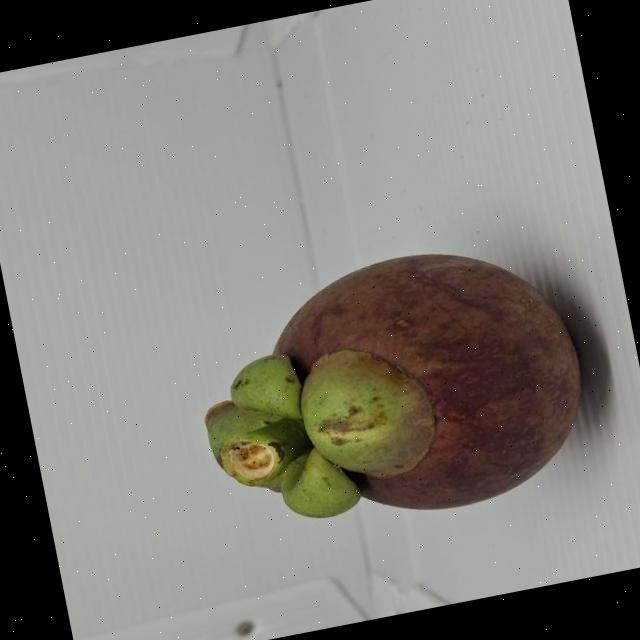mangosteen: (125, 193, 632, 612)
